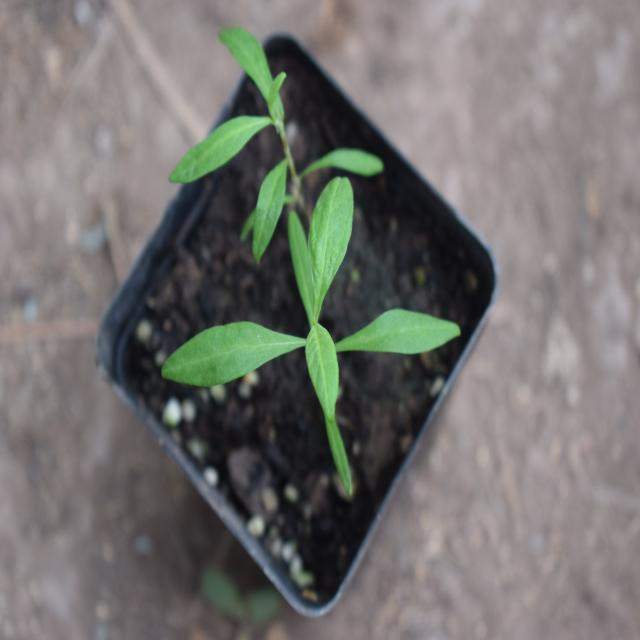white_smart_weed: (166, 183, 472, 480)
